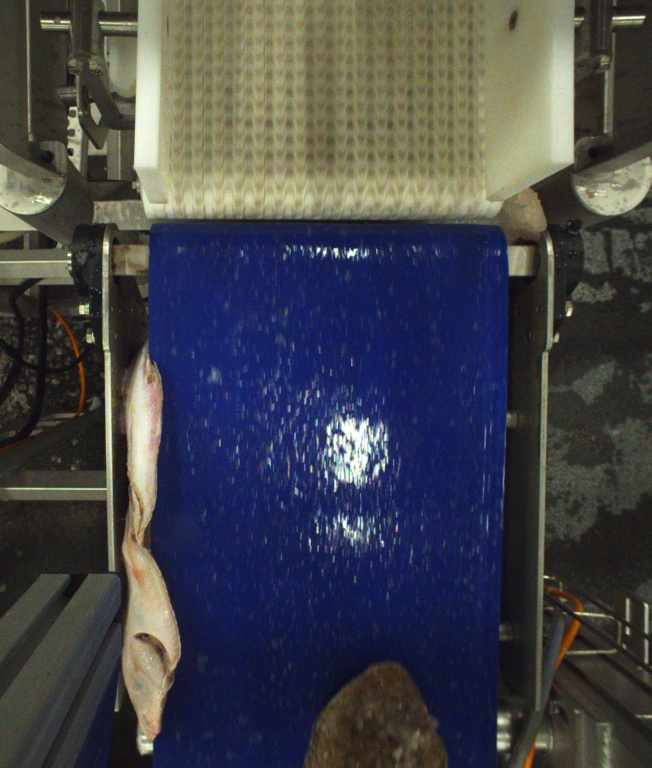SOL: (312, 655, 444, 768)
